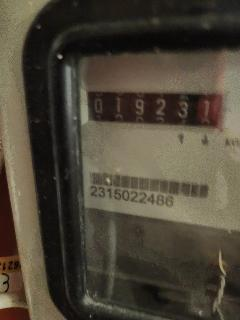1: (95, 99, 104, 113)
2: (202, 100, 213, 116), (114, 98, 125, 112)
3: (157, 99, 166, 115)
4: (178, 102, 188, 119)
:: (136, 100, 145, 115)
